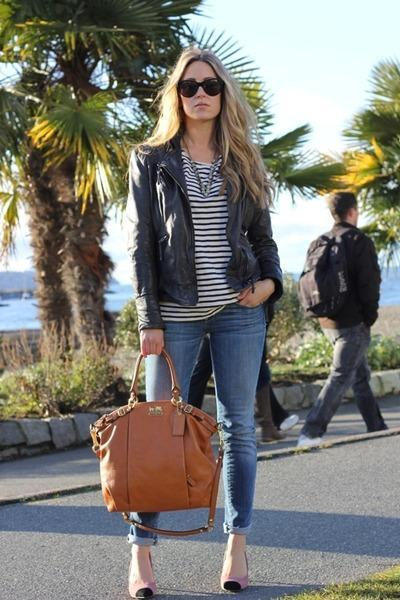bag: (89, 396, 222, 515)
jacket: (117, 138, 285, 323)
pants: (118, 300, 274, 539)
shirt: (161, 148, 230, 320)
shoe: (136, 581, 245, 599)
sunglass: (176, 60, 200, 108)
